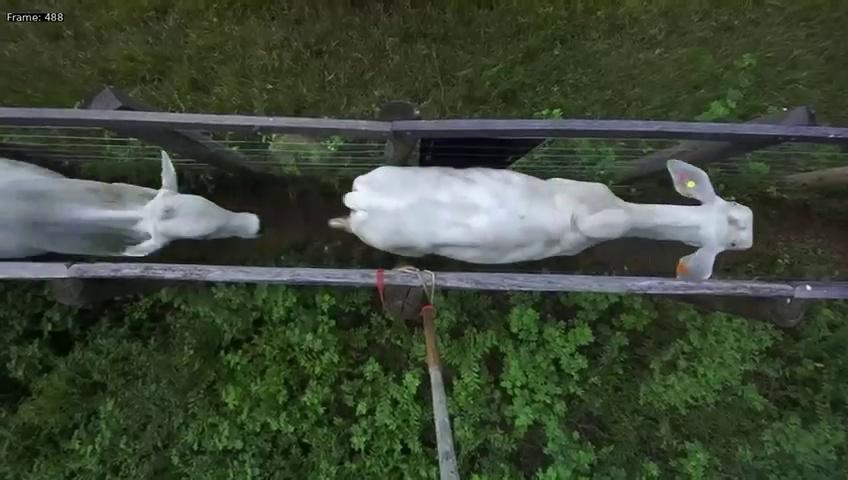cattle: (325, 157, 753, 280), (1, 145, 263, 262)
